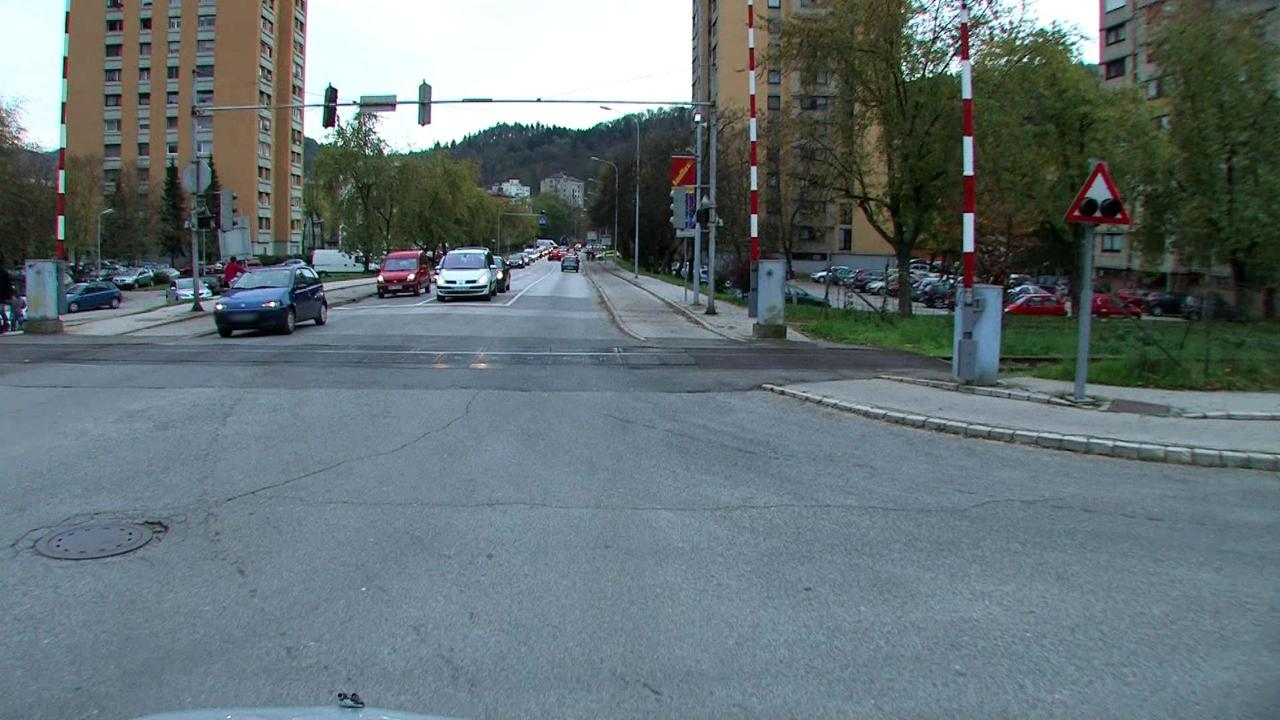Triangle: (1068, 159, 1134, 229)
